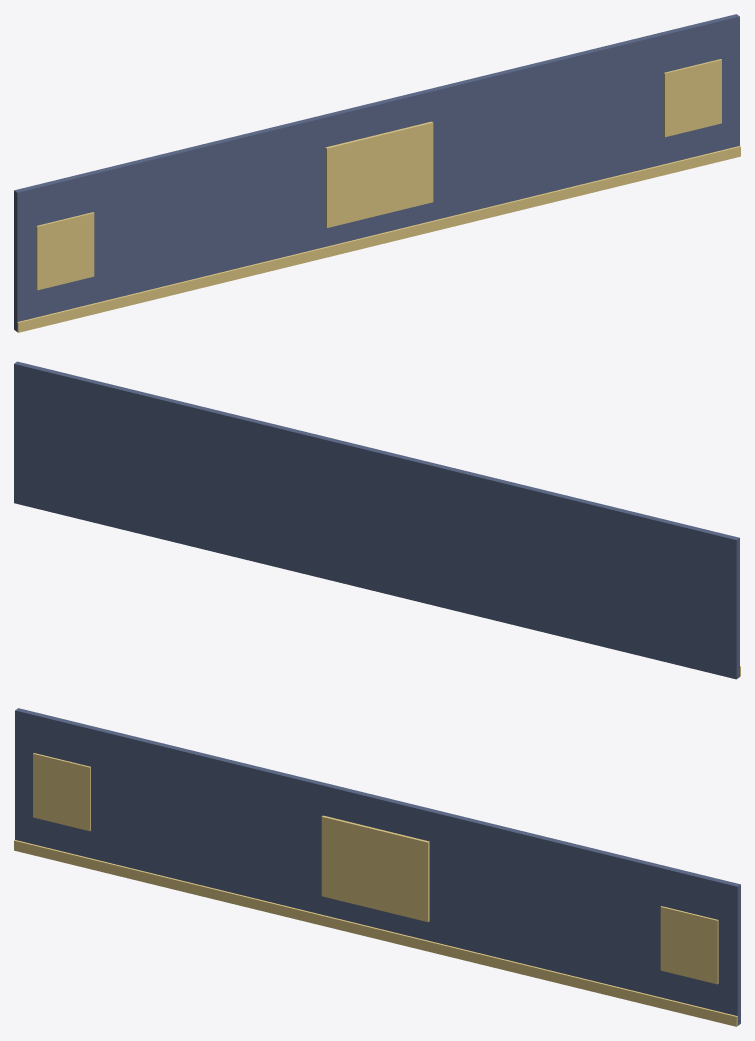
Rendered from Collegiate_Pennant_Banner.glb.
The picture shows the model from 3 angles, top to bottom: view 1: azimuth 30°, elevation 25°; view 2: azimuth 150°, elevation 25°; view 3: azimuth 330°, elevation 25°; orthographic projection.
Parts seen in each view (by area): view 1: Collegiate_Pennant_Banner; view 2: Collegiate_Pennant_Banner; view 3: Collegiate_Pennant_Banner.
Part boxes in pixels (<box>): Collegiate_Pennant_Banner: <box>14,14,740,332</box>; Collegiate_Pennant_Banner: <box>14,361,740,679</box>; Collegiate_Pennant_Banner: <box>14,708,740,1026</box>.
Bounding box in the file's own units: 1.9 × 0.35 × 0.022.
